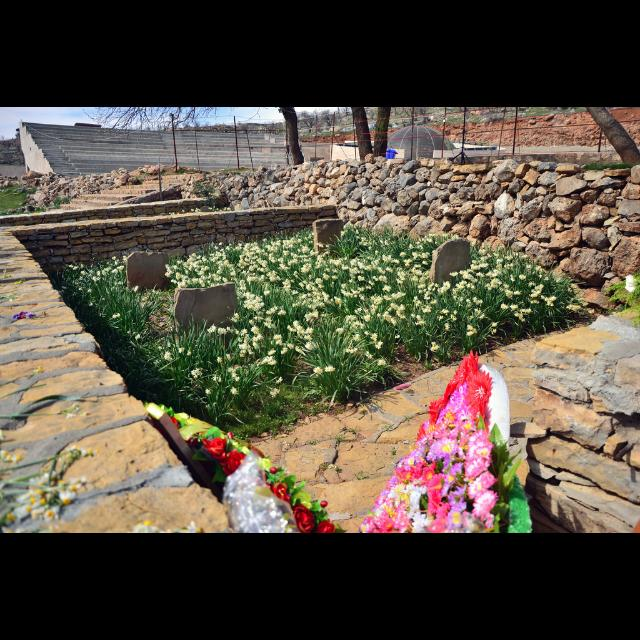Flower: (71, 227, 594, 379), (364, 352, 520, 524), (171, 409, 343, 533), (624, 272, 640, 294)
